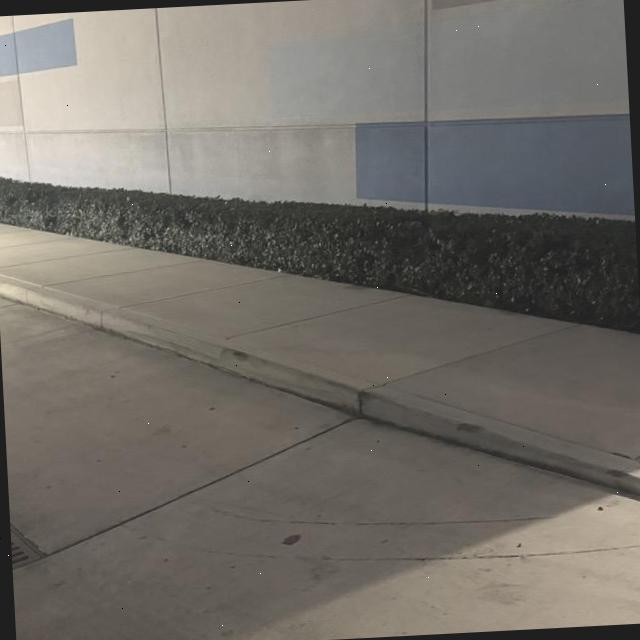curb: (0, 272, 640, 498)
